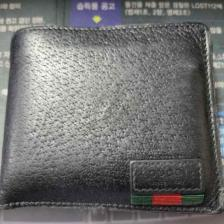wallet: (2, 19, 221, 215)
